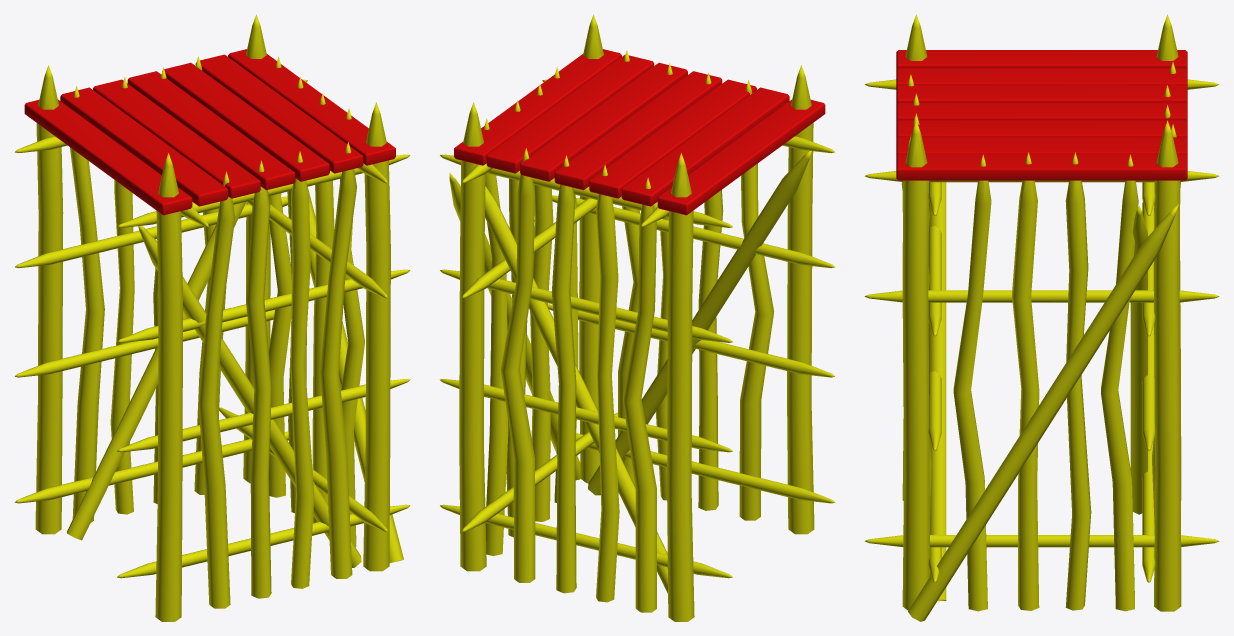
File: prp_Cage.fbx
3 views of the same model, side by side, from view 1: azimuth 30°, elevation 25°; view 2: azimuth 150°, elevation 25°; view 3: azimuth 270°, elevation 25° (orthographic). The views are drawn at different scales.
Visible parts, largest first — view 1: prp_Cage; view 2: prp_Cage; view 3: prp_Cage.
Part boxes in pixels (left/top/right/bottom): prp_Cage: left=14, top=14, right=410, bottom=621; prp_Cage: left=439, top=14, right=835, bottom=621; prp_Cage: left=864, top=14, right=1219, bottom=621.
Size of the model in its own units: 1.37 by 1.37 by 2.09.
